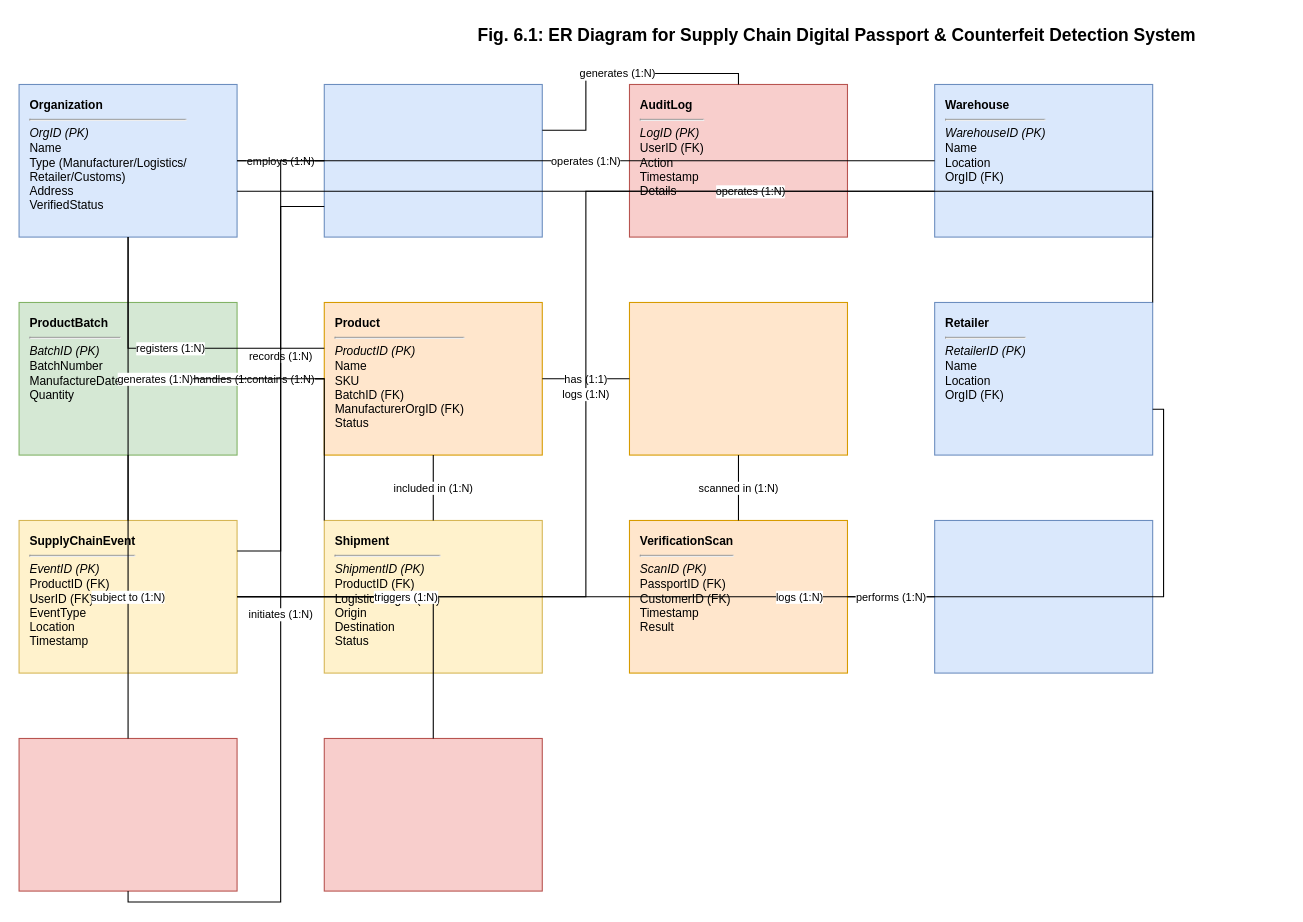
This 1303x922 diagram has some shape labels left out. Here are the shapes that lost their labels. From the top down, the box of each, then its label:
(323, 83, 542, 237): User UserID (PK) Name Email PasswordHash Role OrgID (FK)
(628, 301, 847, 455): DigitalPassport PassportID (PK) ProductID (FK) QRCode NFCID CreatedDate Status
(934, 519, 1153, 673): Customer CustomerID (PK) Name ContactInfo
(18, 737, 237, 891): Recall RecallID (PK) BatchID (FK) InitiatedByUserID (FK) Reason Date Status
(323, 737, 542, 891): Alert AlertID (PK) EventID (FK) Type Severity Timestamp Status
